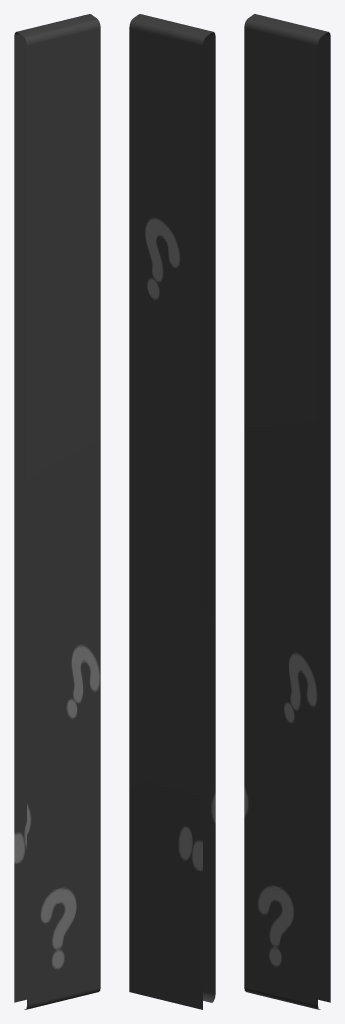
File: HammerBox_02.fbx
3 views of the same model, side by side, from view 1: azimuth 30°, elevation 25°; view 2: azimuth 150°, elevation 25°; view 3: azimuth 330°, elevation 25° (orthographic).
Visible parts, largest first — view 1: HammerBox_02; view 2: HammerBox_02; view 3: HammerBox_02.
Boxes of the visible parts, x1=… form: HammerBox_02: x1=14, y1=14, x2=100, y2=1009; HammerBox_02: x1=129, y1=14, x2=215, y2=1009; HammerBox_02: x1=244, y1=14, x2=330, y2=1009.
Bounding box in the file's own units: 99.17 × 1251 × 29.79.
